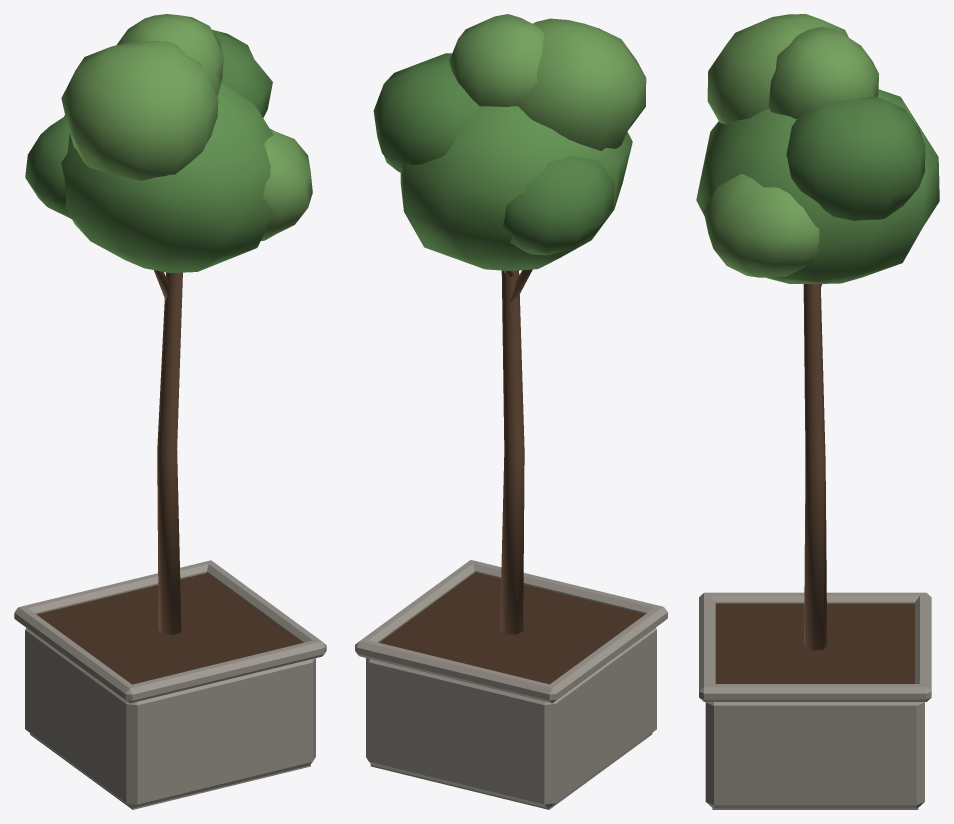
Rendered from planter.glb.
3 renders of one model, left to right at view 1: azimuth 30°, elevation 25°; view 2: azimuth 150°, elevation 25°; view 3: azimuth 270°, elevation 25°, orthographic.
Parts seen in each view (by area): view 1: planter; view 2: planter; view 3: planter.
Part boxes in pixels (left/top/right/bottom): planter: left=14, top=14, right=326, bottom=809; planter: left=355, top=14, right=667, bottom=809; planter: left=696, top=14, right=939, bottom=809.
Bounding box in the file's own units: 0.7983 × 2.42 × 0.7325.
